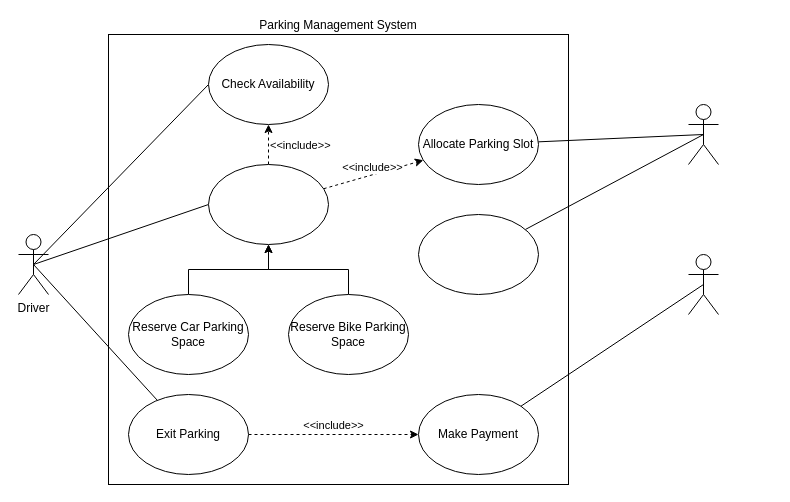
The diagram is 790 pixels wide and 502 high, and some of its shapes have lost their labels. The shapes that lost their labels are listed below. From the top down, each one's box as (x1, y1, x2, y2) in pixels, then its label:
(688, 104, 718, 164): Attendant
(208, 164, 328, 244): Reserve Parking Space
(418, 214, 538, 294): Create Parking Ticket
(688, 254, 718, 314): Payment Service Provider
